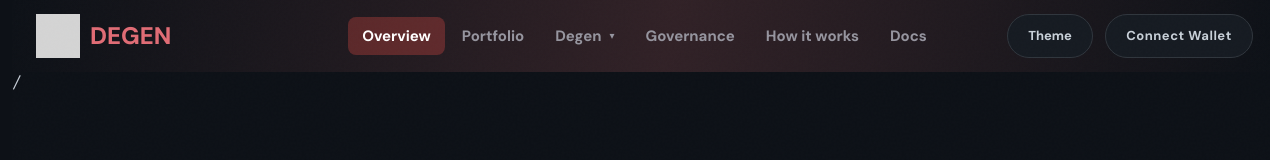
Test: Header navigation › opens Docs as its own navigation tab
Click the link "Docs".
click(908, 36)  # box [890,26,927,46]
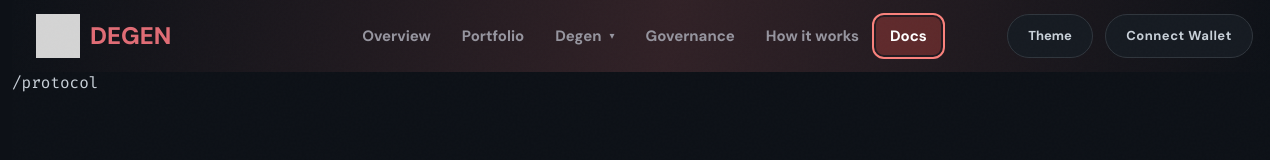
Expected: the text with test id "location" reads "/protocol", [12,72,98,93]
